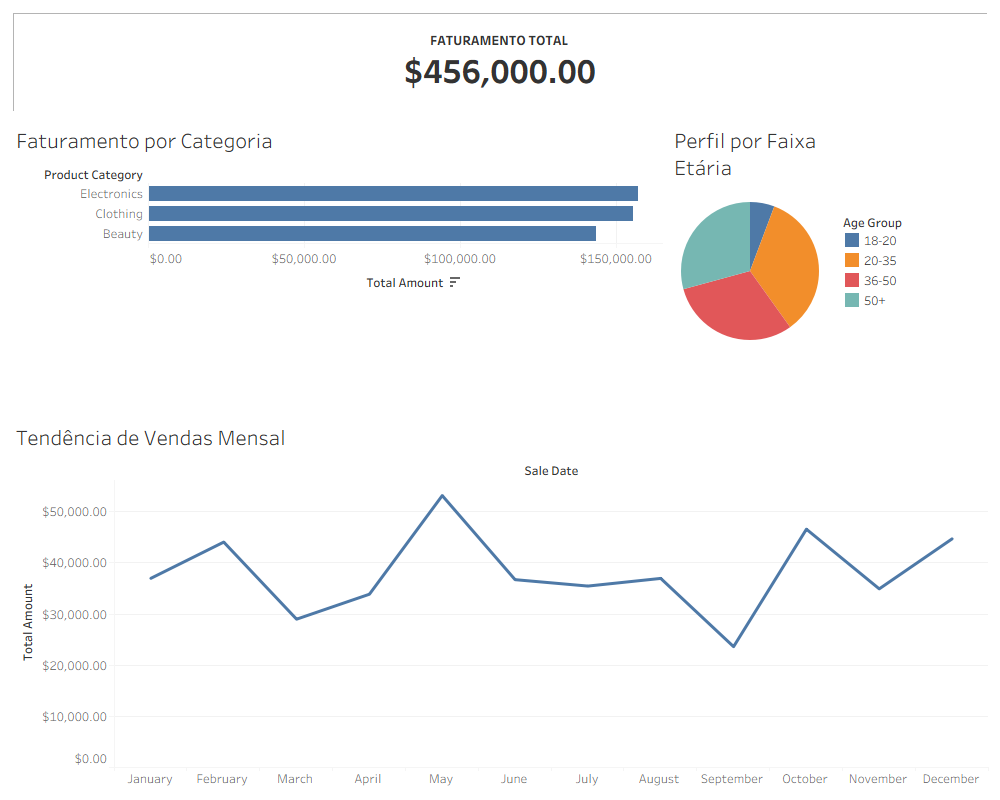

What the dashboard file says about the page in this screenshot:
{"tool":"tableau","page":{"name":"Painel 1","canvas":[1000,800],"ordinal":0},"visuals":[{"type":"worksheet","title":"KPI - Faturamento Total","mark":"Automatic","box":[8,8,984,108]},{"type":"worksheet","title":"Faturamento por Categoria","mark":"Automatic","rows":["product_category"],"cols":["total_amount"],"box":[8,116,658,297]},{"type":"worksheet","title":"Perfil por Faixa Etária","mark":"Pie","box":[666,116,326,297]},{"type":"legend","title":"Perfil por Faixa Etária","param":"[federated.1wg8cd01hqz333188mvf418ibv4x].[none:age_group:nk]","box":[842,212,140,98]},{"type":"worksheet","title":"Tendência de Vendas Mensal","mark":"Automatic","rows":["total_amount"],"cols":["sale_date"],"box":[8,413,984,379]}]}

Visuals, with their boxes in screenshot pixels (x1, y1, x2, y2), scaled from the page's 1000x800 canvas onto the 1000x800 screenshot:
"KPI - Faturamento Total" worksheet: <bbox>8, 8, 992, 116</bbox>
"Faturamento por Categoria" worksheet: <bbox>8, 116, 666, 413</bbox>
"Perfil por Faixa Etária" worksheet (Pie marks): <bbox>666, 116, 992, 413</bbox>
"Perfil por Faixa Etária" legend: <bbox>842, 212, 982, 310</bbox>
"Tendência de Vendas Mensal" worksheet: <bbox>8, 413, 992, 792</bbox>
